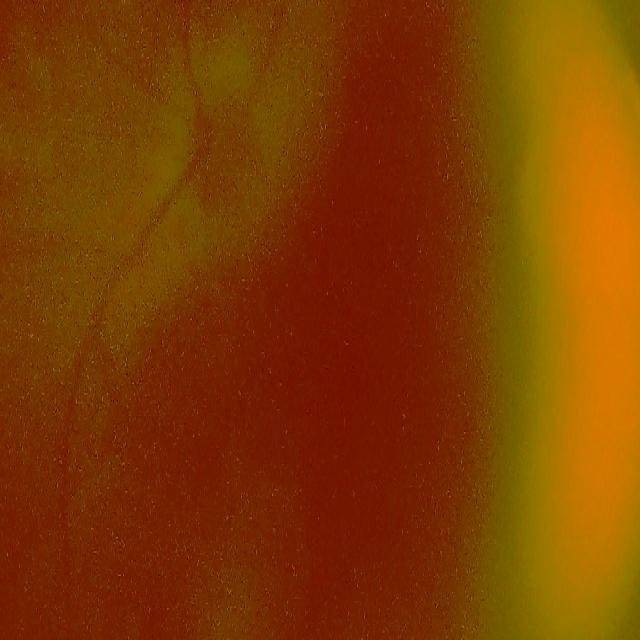optic-nerve: (162, 62, 278, 249)
